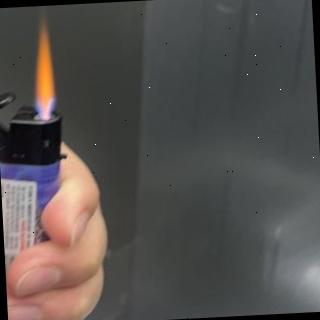fire: (28, 10, 58, 114)
